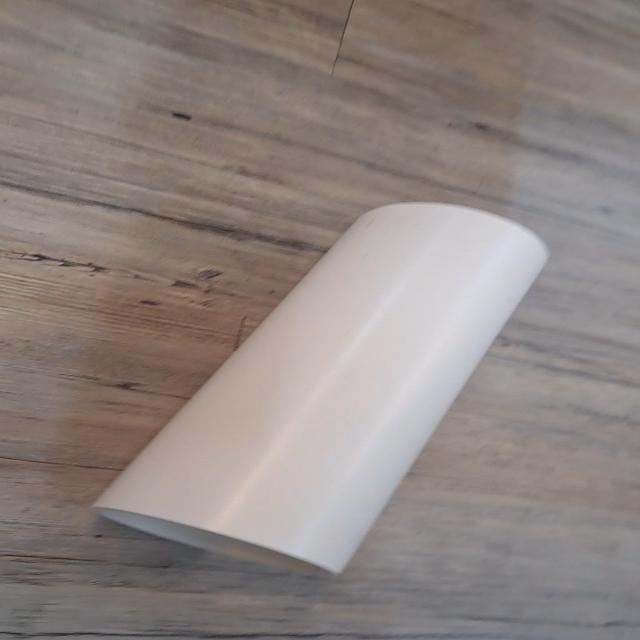CORAL: (81, 194, 563, 573)
